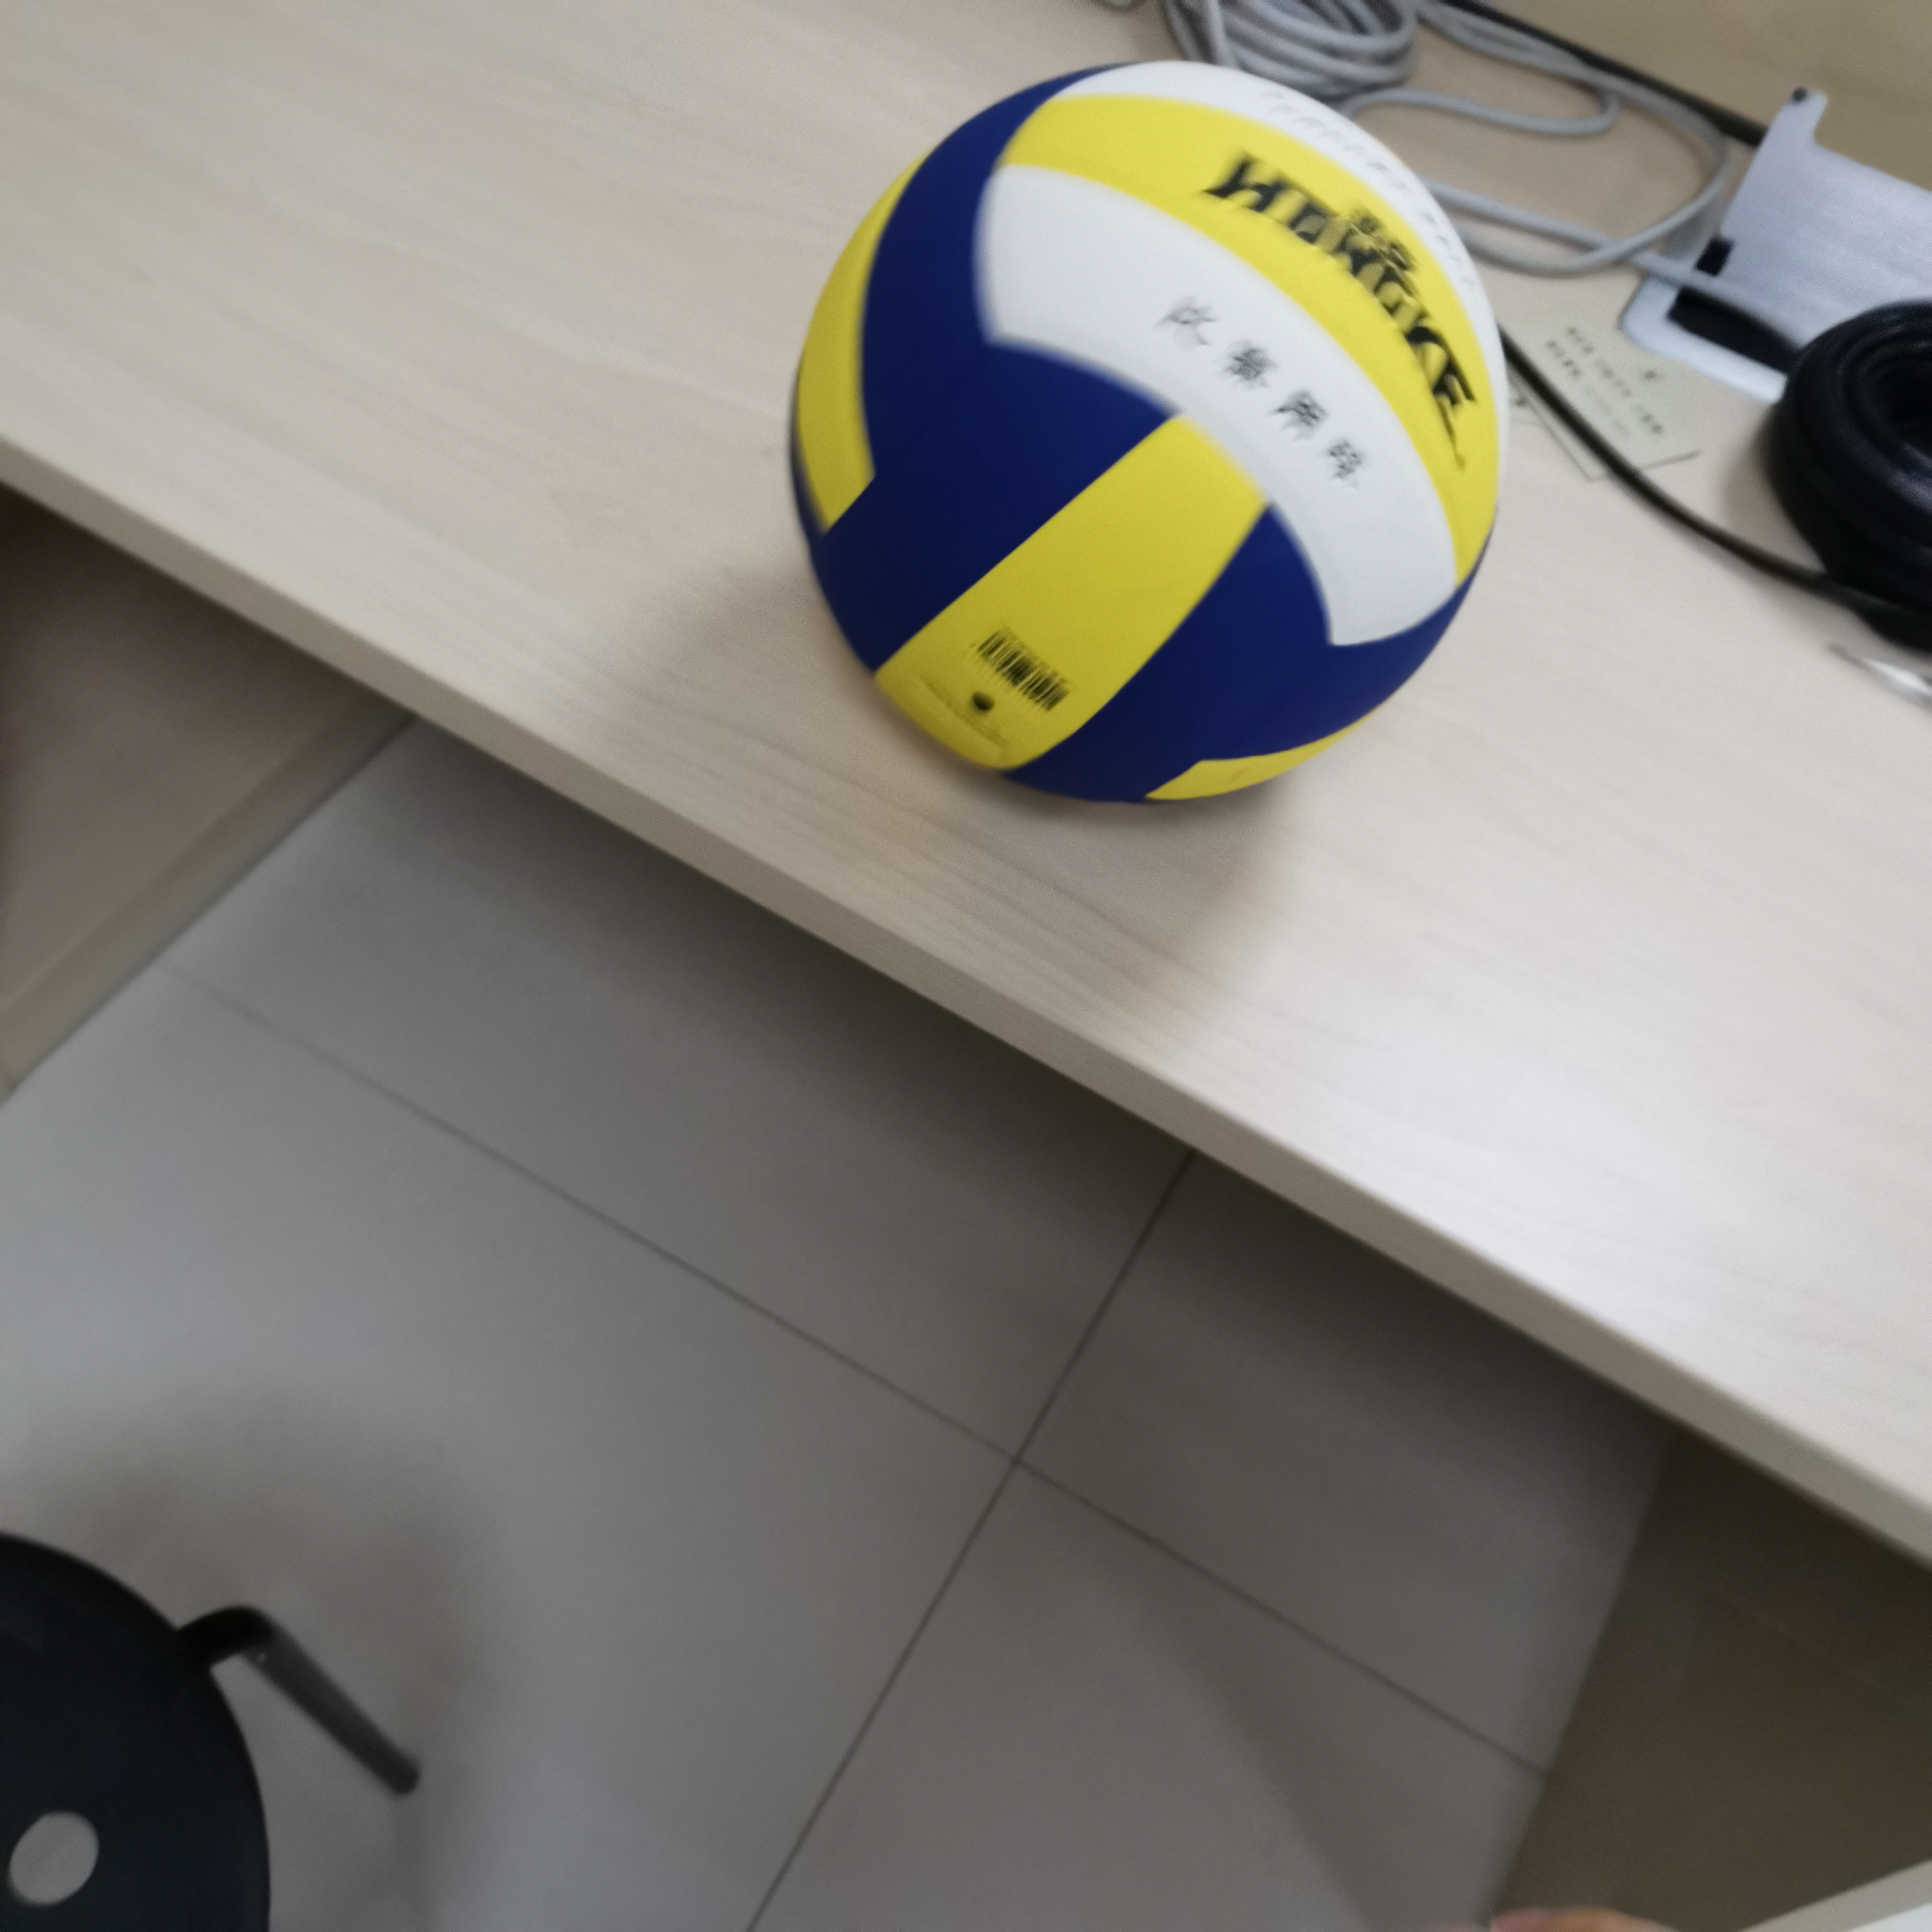volleyball: (789, 65, 1516, 805)
